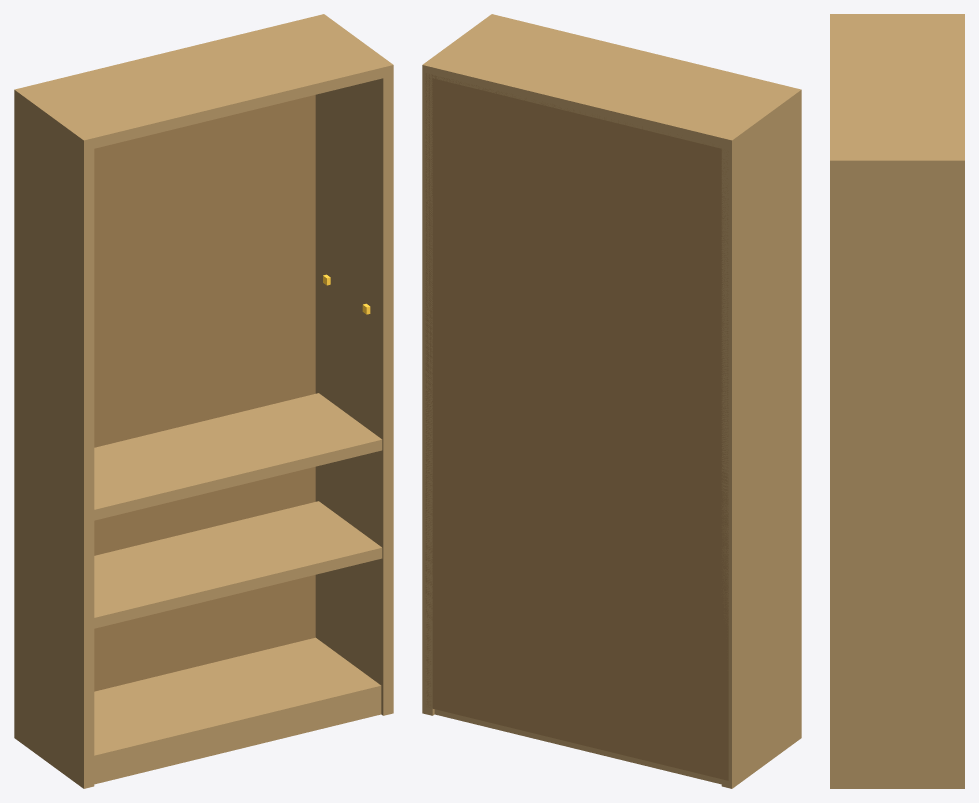
File: half_bookcase.glb
3 views of the same model, side by side, from view 1: azimuth 30°, elevation 25°; view 2: azimuth 150°, elevation 25°; view 3: azimuth 270°, elevation 25° (orthographic). The views are drawn at different scales.
Visible parts, largest first — view 1: side_bookcase_pine, back_bookcase_back, shelf_bookcase_pine, bottom_bookcase_pine, top_bookcase_pine; view 2: back_bookcase_back, side_bookcase_pine, top_bookcase_pine, bottom_bookcase_pine; view 3: side_bookcase_pine, top_bookcase_pine.
Boxes of the visible parts, x1,y1,x2,y2 form: side_bookcase_pine: [14, 14, 393, 788]; back_bookcase_back: [94, 95, 315, 691]; shelf_bookcase_pine: [94, 393, 382, 628]; bottom_bookcase_pine: [94, 637, 381, 784]; top_bookcase_pine: [14, 15, 393, 150]; back_bookcase_back: [425, 73, 728, 780]; side_bookcase_pine: [422, 14, 801, 788]; top_bookcase_pine: [422, 15, 801, 150]; bottom_bookcase_pine: [434, 709, 721, 784]; side_bookcase_pine: [830, 14, 964, 788]; top_bookcase_pine: [830, 14, 964, 169].
Size of the model in its own units: 0.9 by 1.8 by 0.35.
